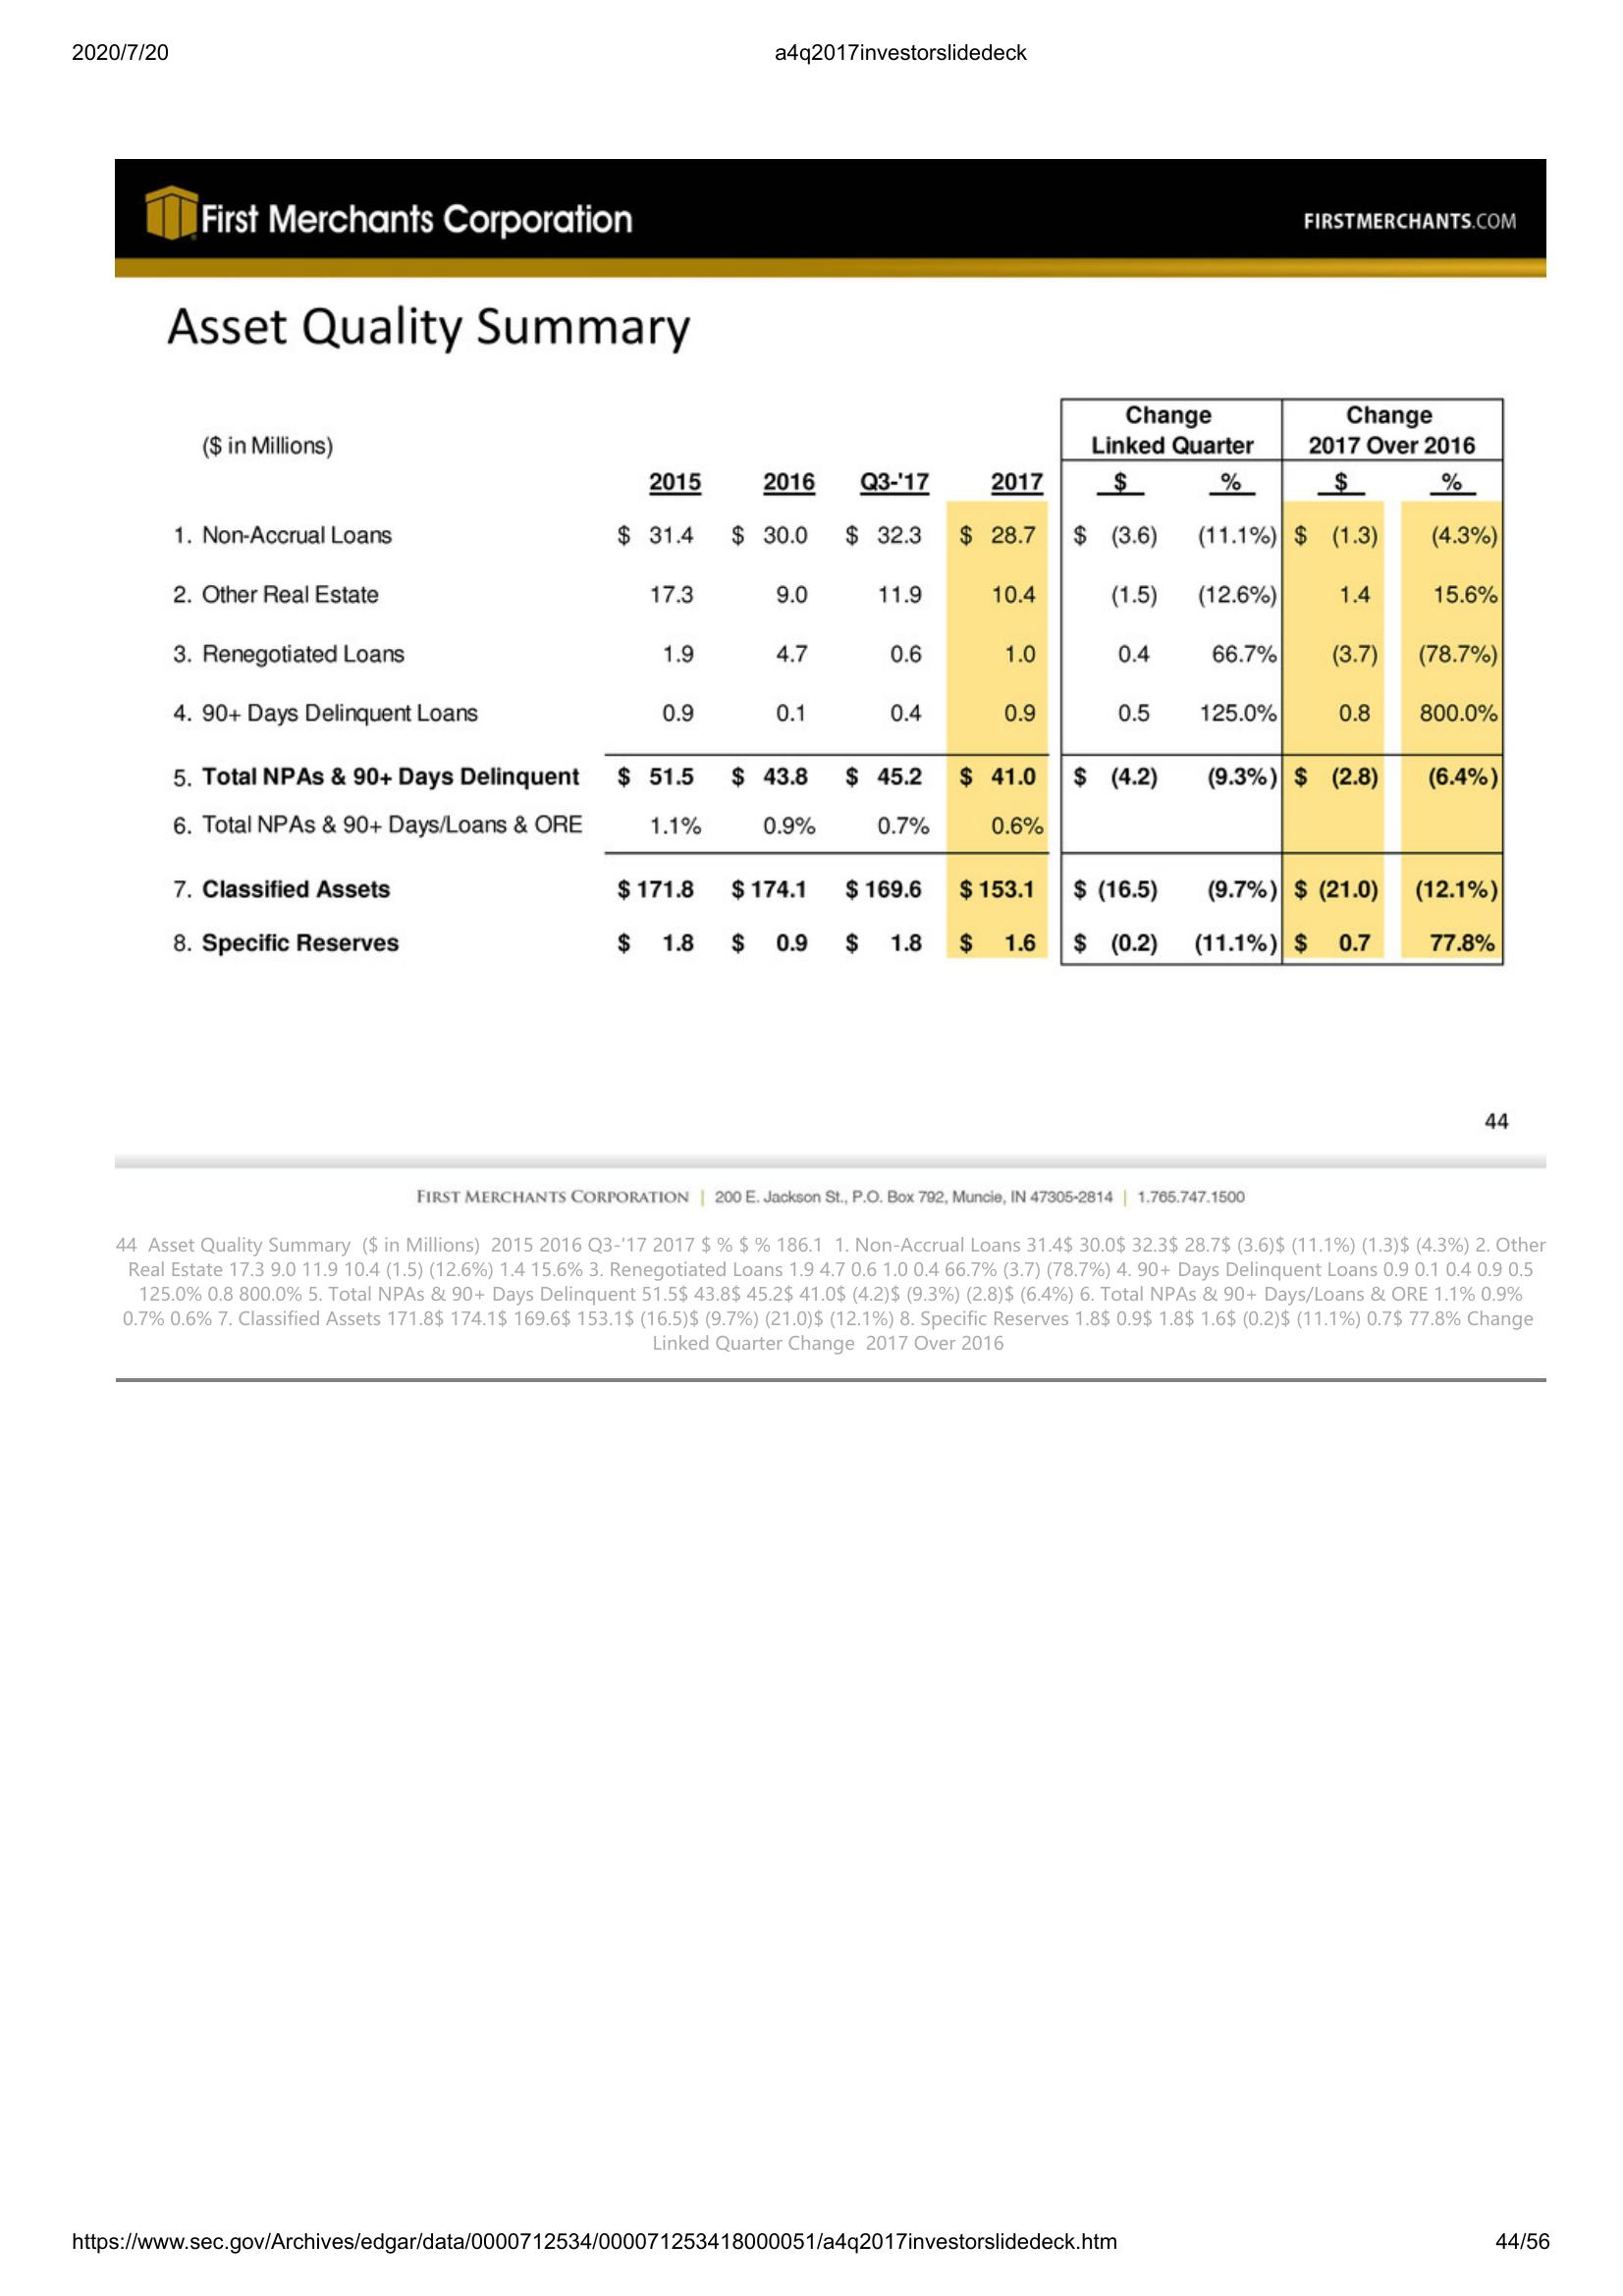table: (162, 386, 1516, 972)
